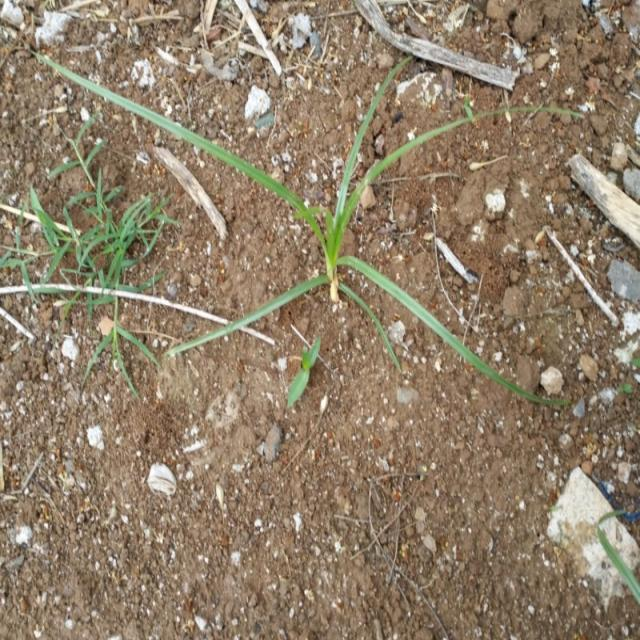sedge: (152, 60, 494, 375)
